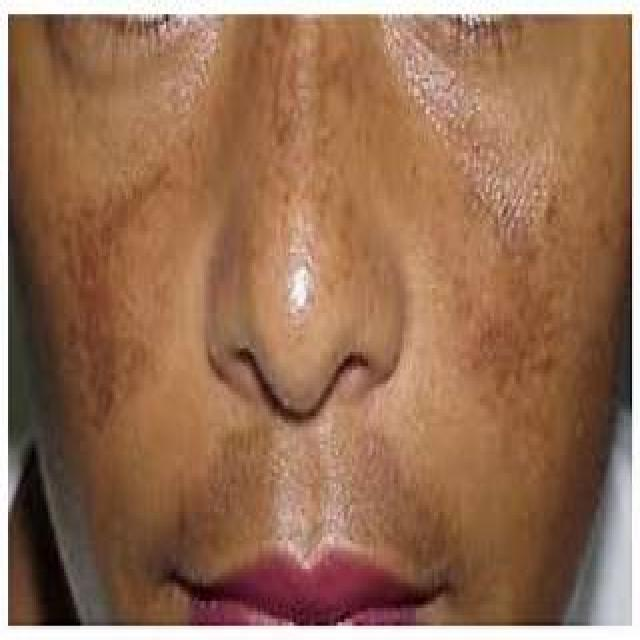pigmentation: (440, 142, 582, 438), (57, 204, 167, 415)
